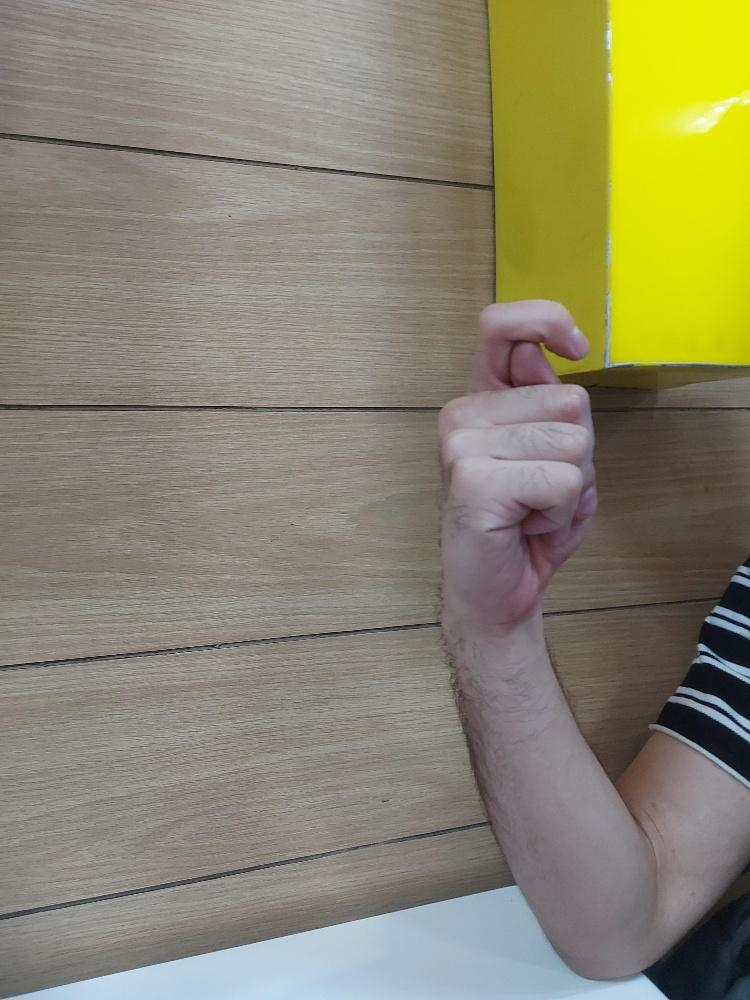t: (433, 293, 600, 626)
